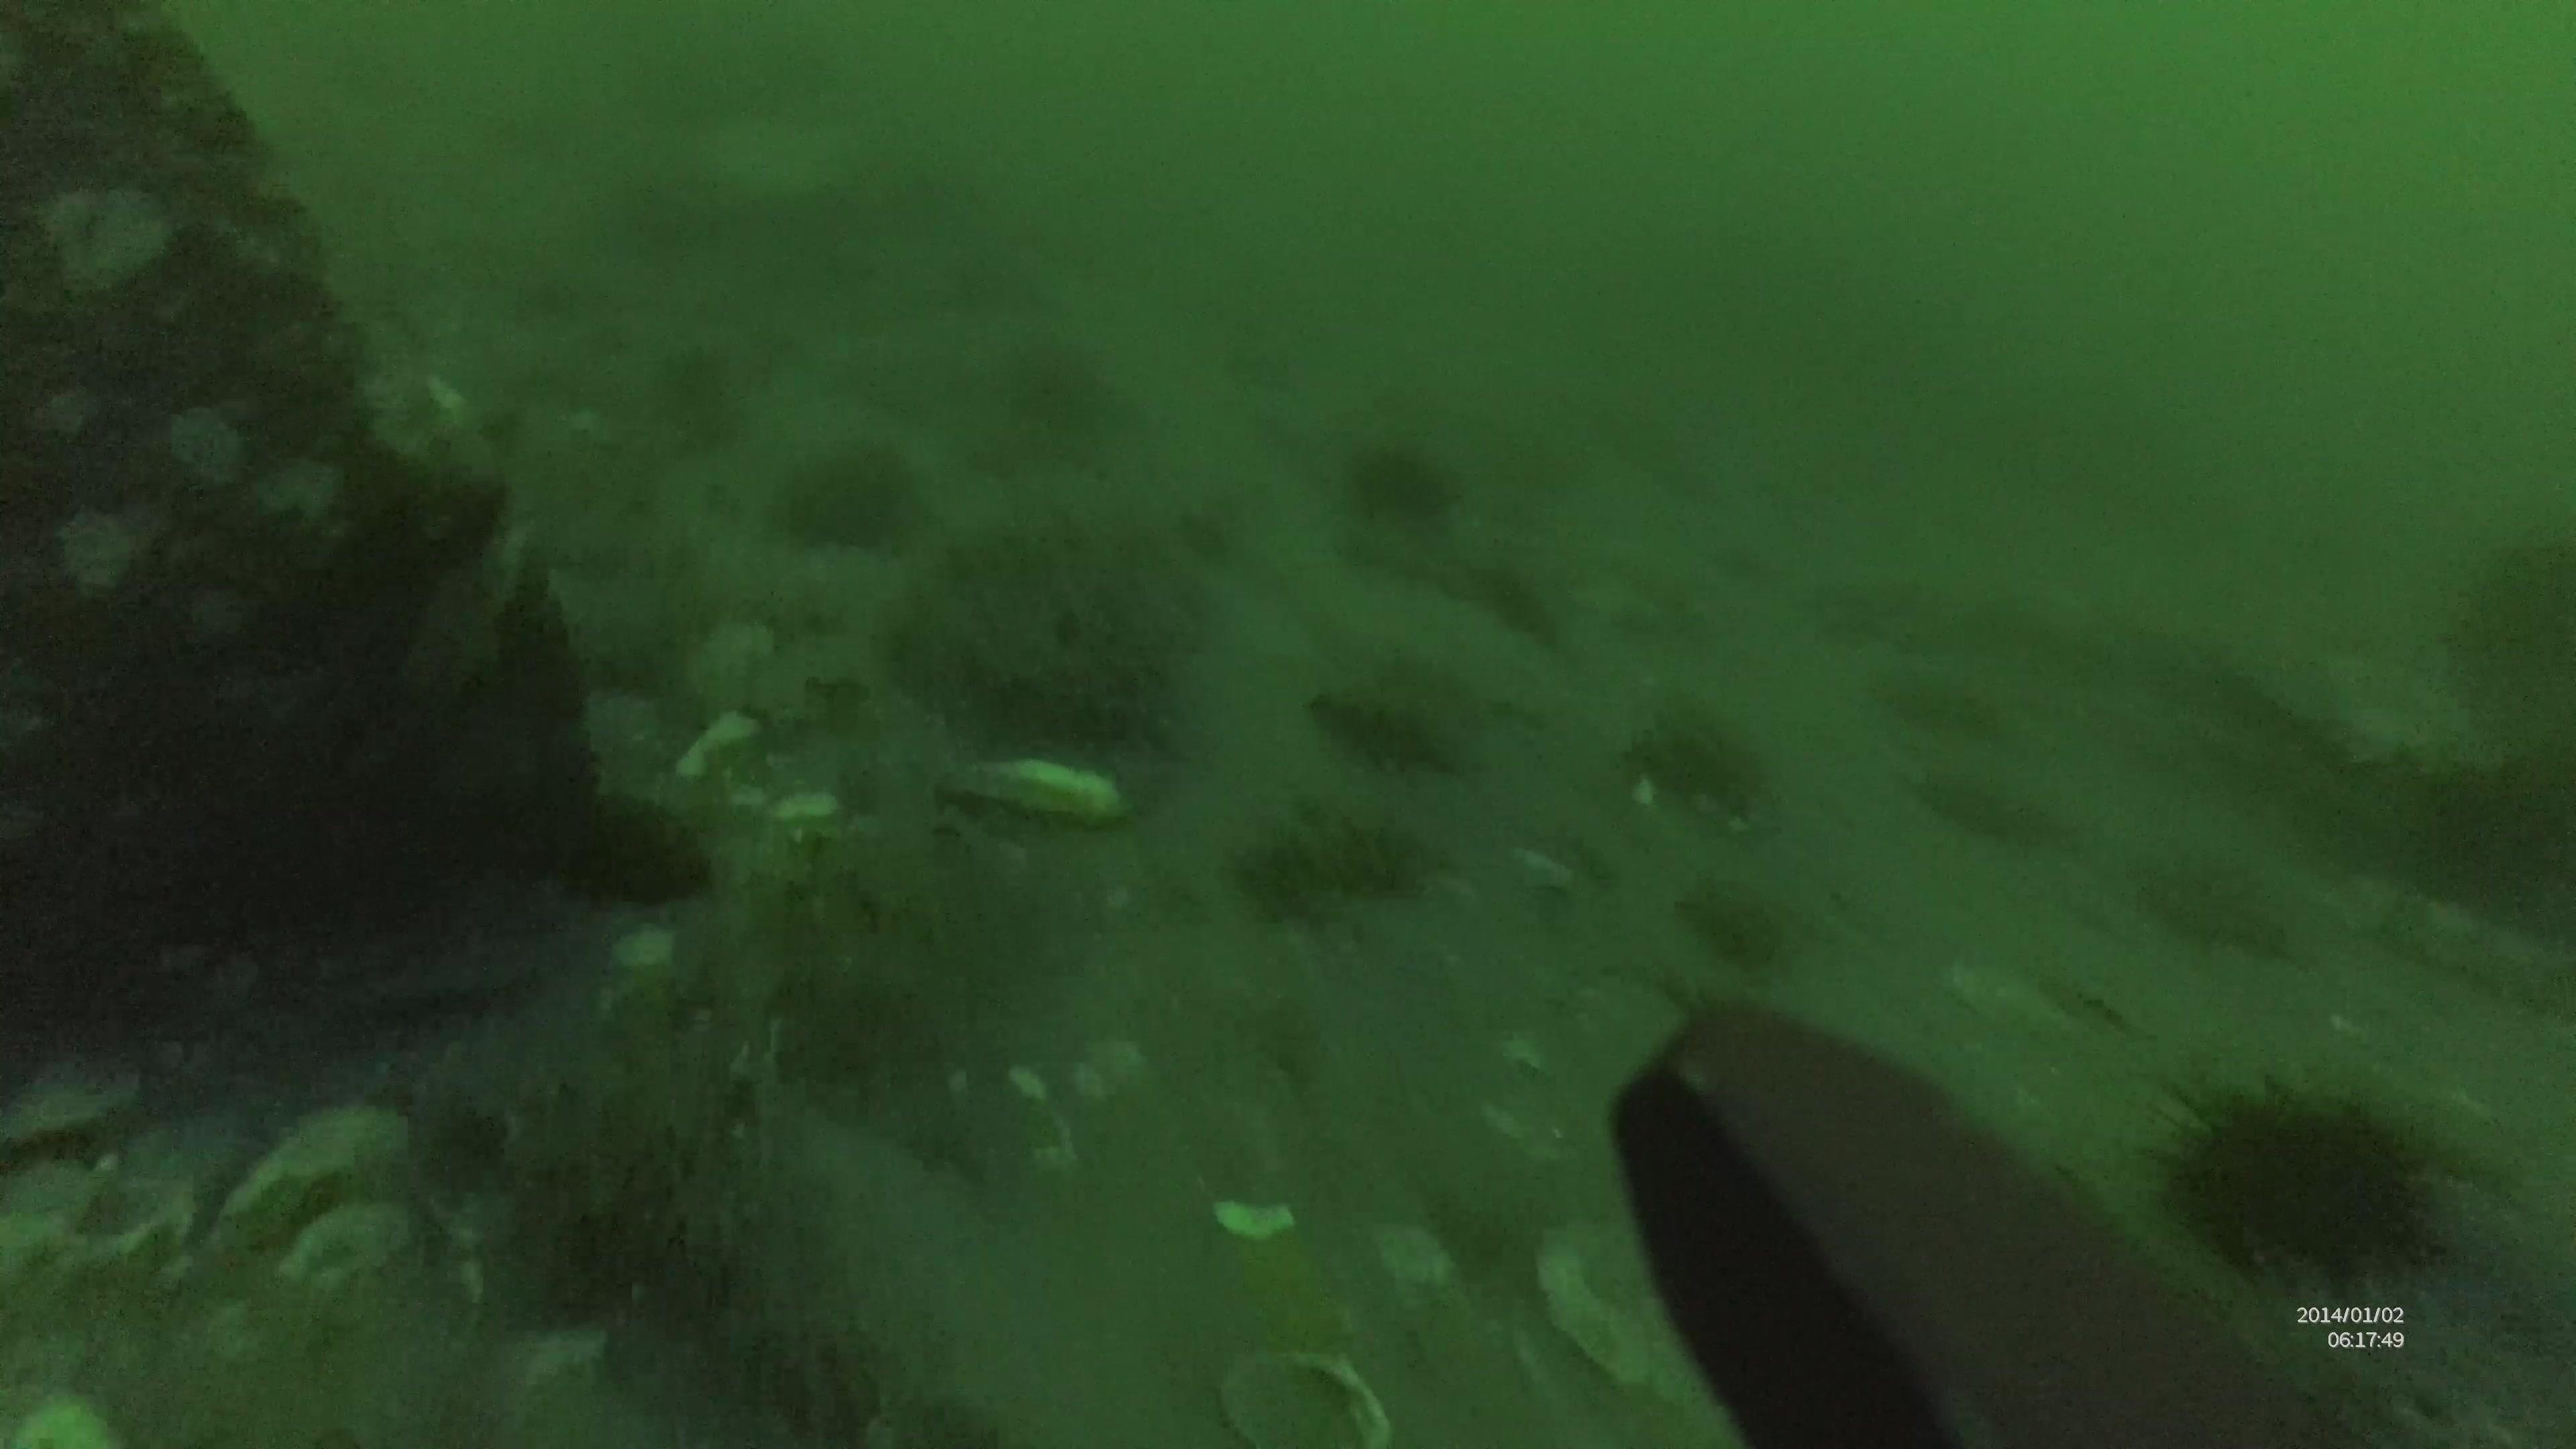echinus: (2160, 1063, 2452, 1307)
